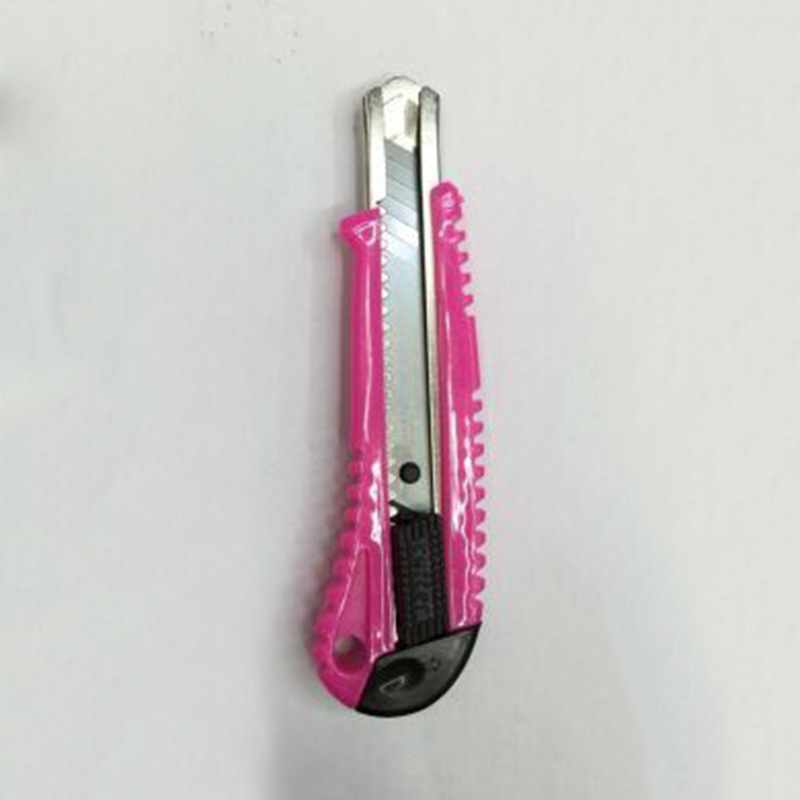cutter: (306, 76, 491, 719)
